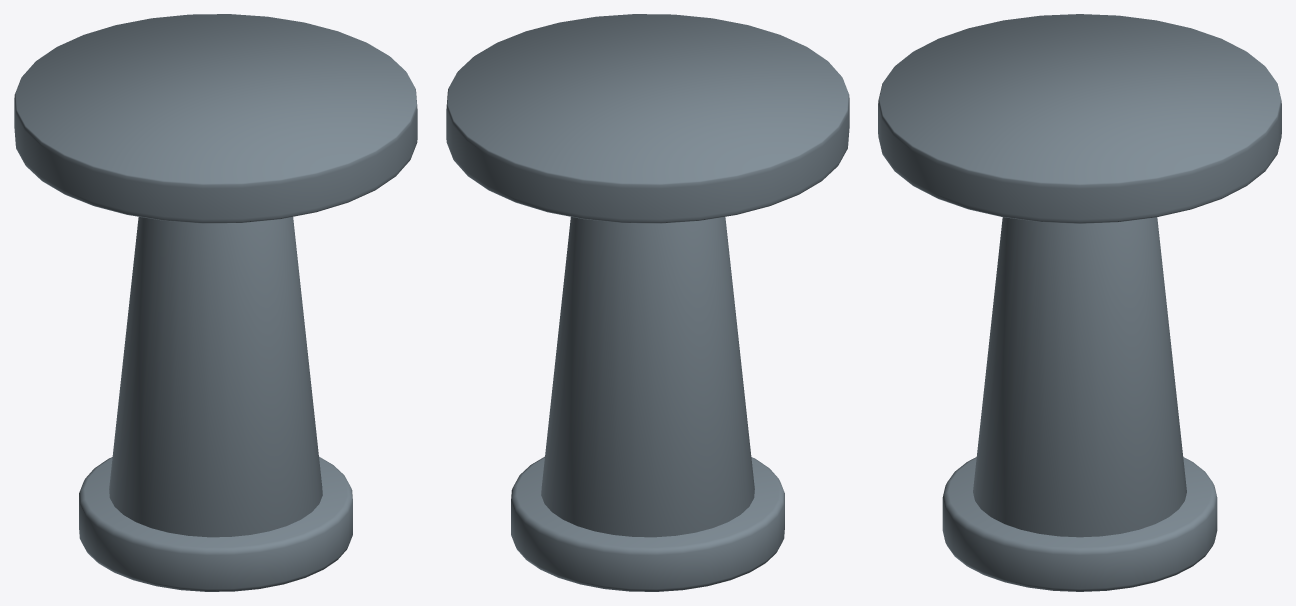
Rendered from pedestal-nightstand.glb.
The picture shows the model from 3 angles, left to right: view 1: azimuth 30°, elevation 25°; view 2: azimuth 150°, elevation 25°; view 3: azimuth 270°, elevation 25°; orthographic projection.
Parts seen in each view (by area): view 1: pedestal-nightstand; view 2: pedestal-nightstand; view 3: pedestal-nightstand.
Boxes of the visible parts, left/top/right/bottom form: pedestal-nightstand: left=14, top=14, right=417, bottom=591; pedestal-nightstand: left=446, top=14, right=849, bottom=591; pedestal-nightstand: left=878, top=14, right=1281, bottom=591.
Size of the model in its own units: 0.46 by 0.55 by 0.46.
